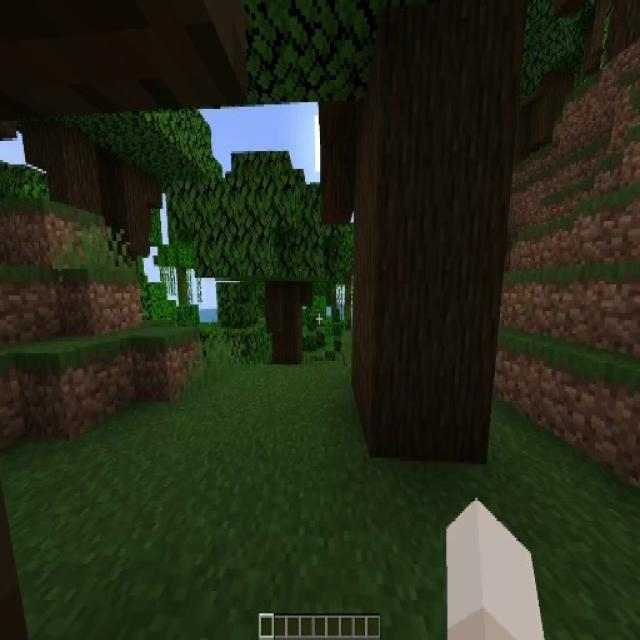dark_oak: (207, 154, 322, 370), (88, 66, 177, 269)
dark_oak_log: (354, 14, 513, 464), (112, 167, 156, 256), (266, 278, 306, 363)
jungle: (161, 240, 199, 320)
